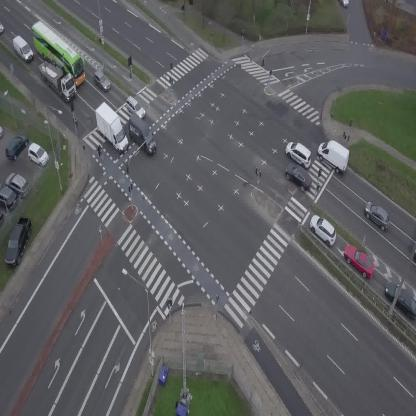bicycle: (94, 144, 104, 158)
bus: (22, 18, 95, 87)
car: (338, 239, 381, 283), (304, 211, 342, 248), (279, 159, 317, 195), (359, 198, 395, 232), (281, 137, 317, 170), (121, 95, 149, 122), (89, 68, 114, 93), (340, 0, 349, 7), (0, 22, 3, 33)
lorry: (29, 50, 84, 104), (89, 98, 132, 158), (120, 112, 164, 157), (311, 134, 356, 176), (8, 34, 38, 64), (413, 246, 416, 263)
